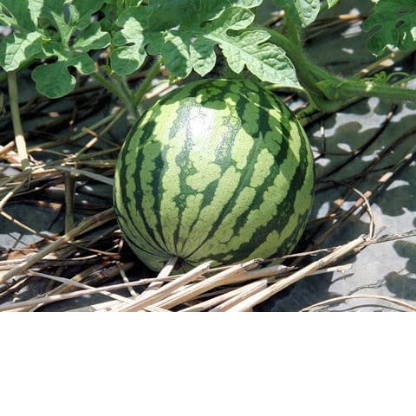duahau: (109, 67, 317, 279)
